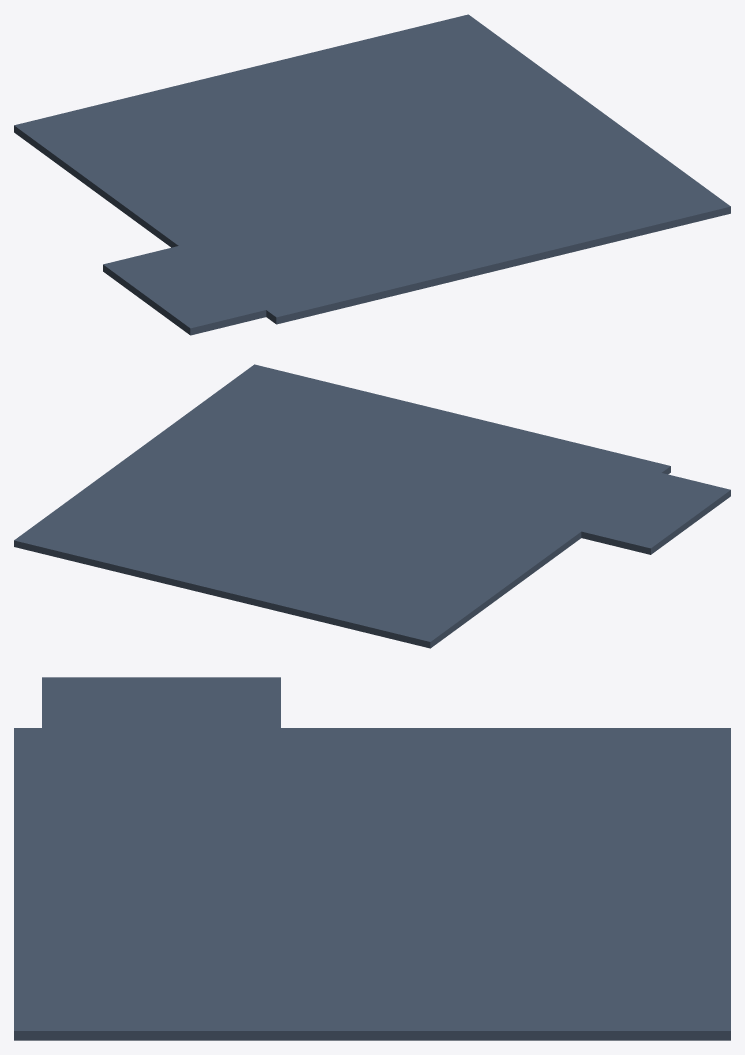
Rendered from floor_geometry.obj.
3 views of the same model, one above another, from view 1: azimuth 30°, elevation 25°; view 2: azimuth 150°, elevation 25°; view 3: azimuth 270°, elevation 25° (orthographic). The views are drawn at different scales.
Visible parts, largest first — view 1: Floor_009_u_route_a_ventilyaciya_floor, Floor_006_u_route_a_sluzhebnyy_floor, Floor_001_u_route_a_dver_iz_holla_floor, Floor_003_u_route_a_sluzhebnyy_floor, Floor_007_u_route_a_sluzhebnyy_floor, Floor_008_u_route_a_ventilyaciya_floor, Floor_002_u_route_a_dver_iz_holla_floor; view 2: Floor_009_u_route_a_ventilyaciya_floor, Floor_006_u_route_a_sluzhebnyy_floor, Floor_001_u_route_a_dver_iz_holla_floor, Floor_003_u_route_a_sluzhebnyy_floor, Floor_008_u_route_a_ventilyaciya_floor, Floor_007_u_route_a_sluzhebnyy_floor; view 3: Floor_009_u_route_a_ventilyaciya_floor, Floor_006_u_route_a_sluzhebnyy_floor, Floor_001_u_route_a_dver_iz_holla_floor, Floor_007_u_route_a_sluzhebnyy_floor, Floor_008_u_route_a_ventilyaciya_floor, Floor_003_u_route_a_sluzhebnyy_floor, Floor_002_u_route_a_dver_iz_holla_floor, Floor_004_u_route_a_sluzhebnyy_floor.
Boxes of the visible parts, x1=… form: Floor_009_u_route_a_ventilyaciya_floor: x1=247, y1=14, x2=730, y2=267; Floor_006_u_route_a_sluzhebnyy_floor: x1=19, y1=71, x2=498, y2=322; Floor_001_u_route_a_dver_iz_holla_floor: x1=103, y1=247, x2=260, y2=335; Floor_003_u_route_a_sluzhebnyy_floor: x1=14, y1=124, x2=183, y2=247; Floor_007_u_route_a_sluzhebnyy_floor: x1=236, y1=70, x2=503, y2=269; Floor_008_u_route_a_ventilyaciya_floor: x1=241, y1=68, x2=508, y2=268; Floor_002_u_route_a_dver_iz_holla_floor: x1=174, y1=246, x2=266, y2=318; Floor_009_u_route_a_ventilyaciya_floor: x1=14, y1=364, x2=457, y2=596; Floor_006_u_route_a_sluzhebnyy_floor: x1=227, y1=416, x2=665, y2=647; Floor_001_u_route_a_dver_iz_holla_floor: x1=586, y1=474, x2=730, y2=554; Floor_003_u_route_a_sluzhebnyy_floor: x1=425, y1=530, x2=581, y2=648; Floor_008_u_route_a_ventilyaciya_floor: x1=217, y1=414, x2=462, y2=597; Floor_007_u_route_a_sluzhebnyy_floor: x1=222, y1=415, x2=466, y2=598; Floor_009_u_route_a_ventilyaciya_floor: x1=14, y1=882, x2=730, y2=1040; Floor_006_u_route_a_sluzhebnyy_floor: x1=14, y1=731, x2=730, y2=875; Floor_001_u_route_a_dver_iz_holla_floor: x1=42, y1=677, x2=280, y2=724; Floor_007_u_route_a_sluzhebnyy_floor: x1=14, y1=876, x2=730, y2=879; Floor_008_u_route_a_ventilyaciya_floor: x1=14, y1=879, x2=730, y2=882; Floor_003_u_route_a_sluzhebnyy_floor: x1=281, y1=728, x2=730, y2=731; Floor_002_u_route_a_dver_iz_holla_floor: x1=42, y1=724, x2=280, y2=727; Floor_004_u_route_a_sluzhebnyy_floor: x1=42, y1=728, x2=280, y2=731.
Size of the model in its own units: 15.56 by 0.2 by 13.33.
